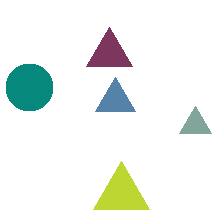circle: (6, 64, 52, 110)
triangle: (93, 161, 149, 209), (86, 27, 132, 66), (95, 77, 135, 111), (179, 106, 211, 133)
